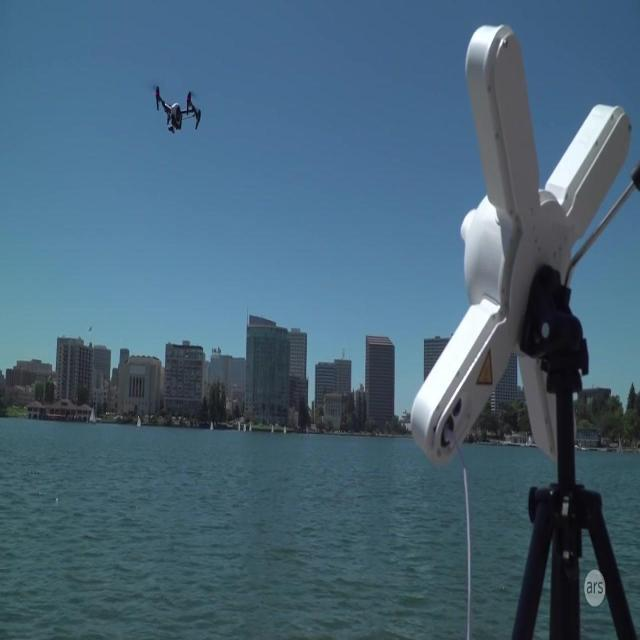drone: (154, 83, 202, 138)
